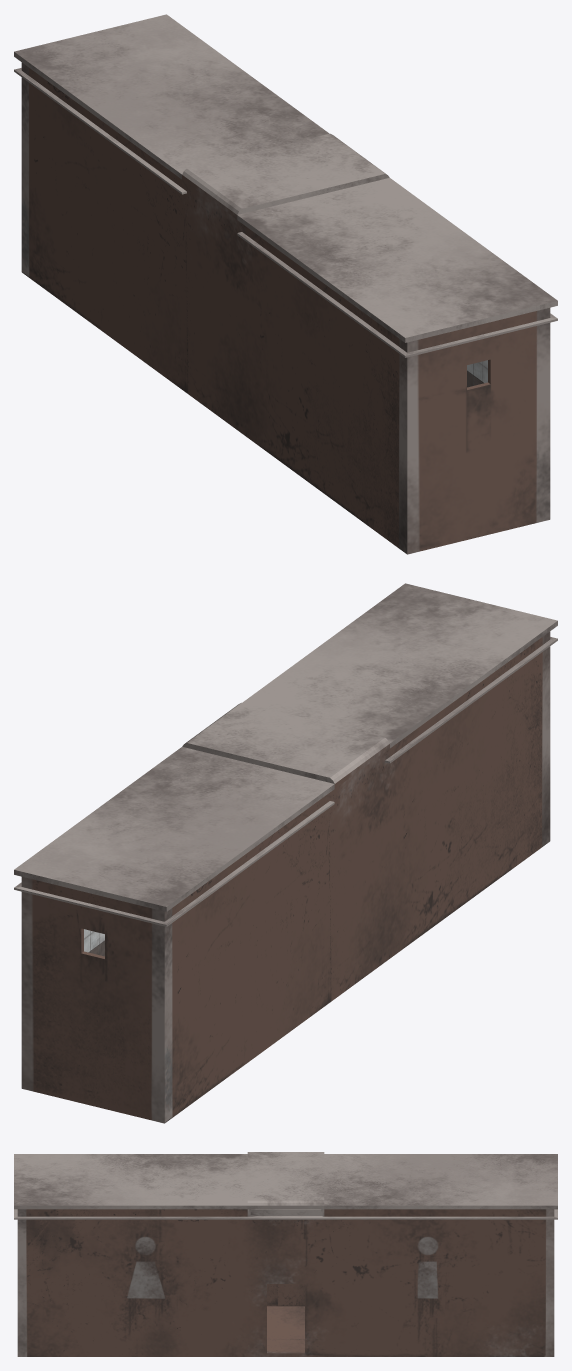
File: 화장실.fbx
3 views of the same model, one above another, from view 1: azimuth 30°, elevation 25°; view 2: azimuth 150°, elevation 25°; view 3: azimuth 270°, elevation 25° (orthographic). The views are drawn at different scales.
Visible parts, largest first — view 1: Toilet; view 2: Toilet; view 3: Toilet.
Boxes of the visible parts, x1,y1,x2,y2 form: Toilet: (14,14,557,554); Toilet: (14,583,557,1123); Toilet: (14,1152,557,1356).
Size of the model in its own units: 320 by 450 by 1420.
